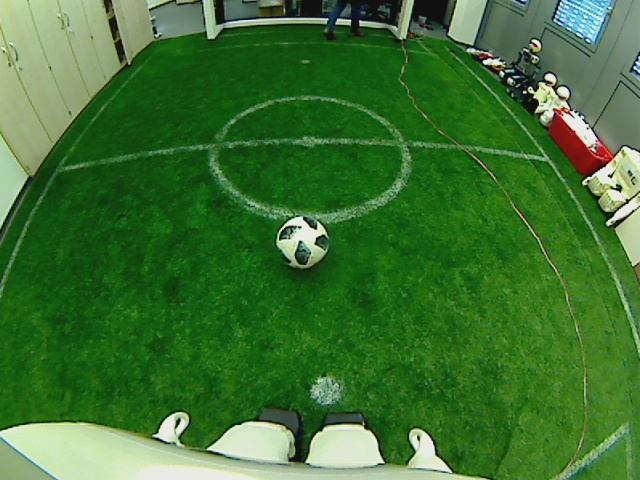ball: (274, 212, 330, 269)
